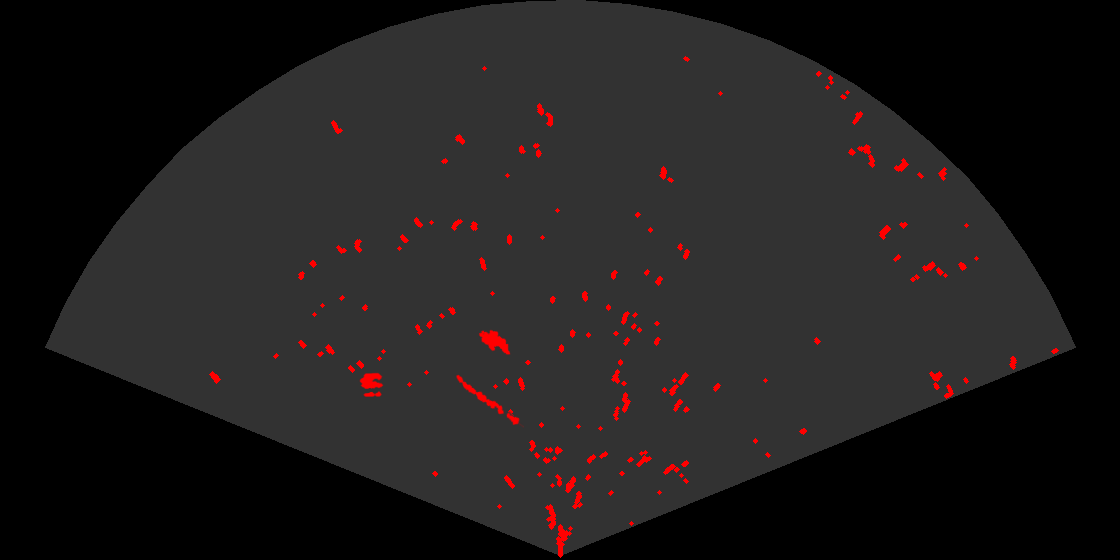AUV: (477, 328, 512, 357)
ball: (358, 371, 385, 398)
chain: (454, 373, 524, 429)
